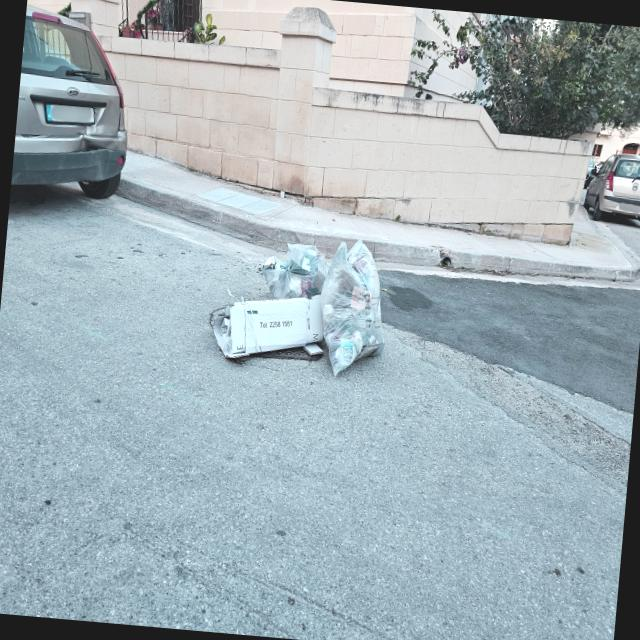grey_bag: (313, 234, 394, 384), (256, 238, 330, 294)
other_waste: (210, 285, 328, 368)
